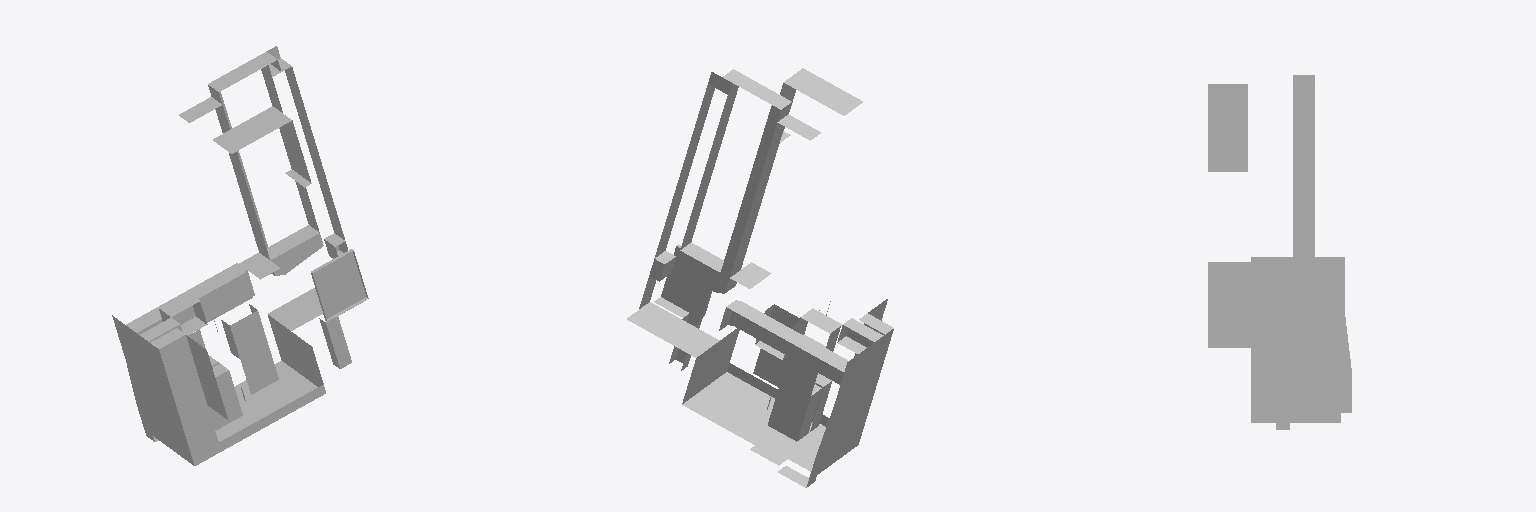
File: opt1-1Glass.obj
The picture shows the model from 3 angles: view 1: azimuth 30°, elevation 25°; view 2: azimuth 150°, elevation 25°; view 3: azimuth 270°, elevation 25°; orthographic projection.
Bounding box in the file's own units: 184 × 295 × 102.